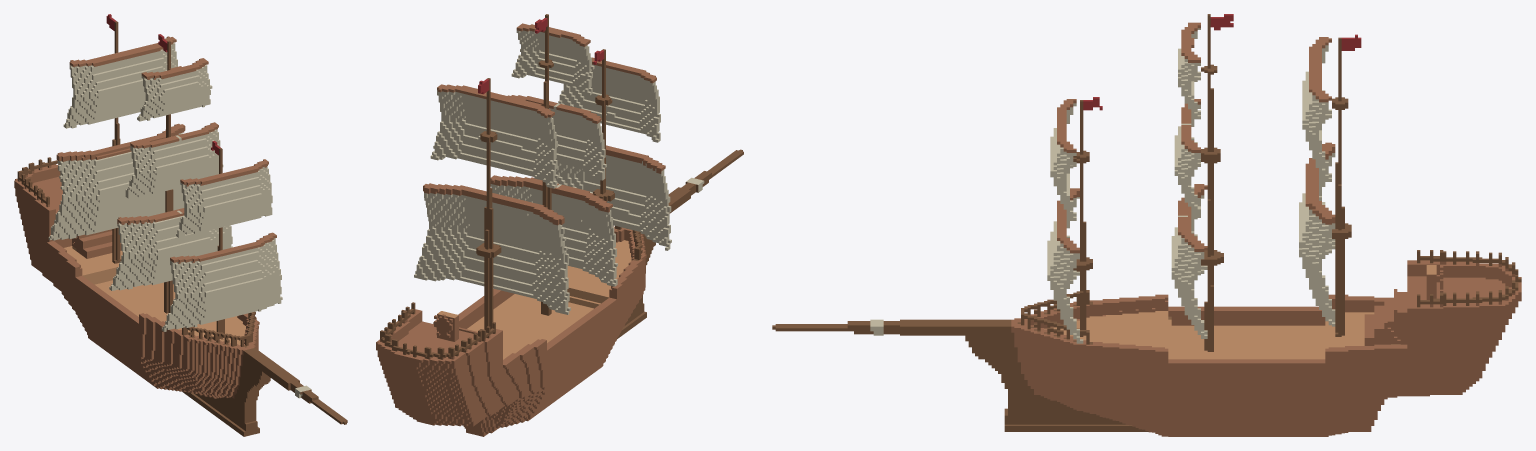
File: BigShip_Voxelized.glb
The picture shows the model from 3 angles, left to right: view 1: azimuth 30°, elevation 25°; view 2: azimuth 150°, elevation 25°; view 3: azimuth 270°, elevation 25°; orthographic projection. The views are drawn at different scales.
Parts seen in each view (by area): view 1: BigShip_Voxelized; view 2: BigShip_Voxelized; view 3: BigShip_Voxelized.
Part boxes in pixels (x1,y1,x2,y2): BigShip_Voxelized: [14, 14, 347, 436]; BigShip_Voxelized: [376, 14, 743, 436]; BigShip_Voxelized: [772, 14, 1521, 436].
Size of the model in its own units: 1.69 by 3.85 by 6.34.
1 material, 1 textured.
